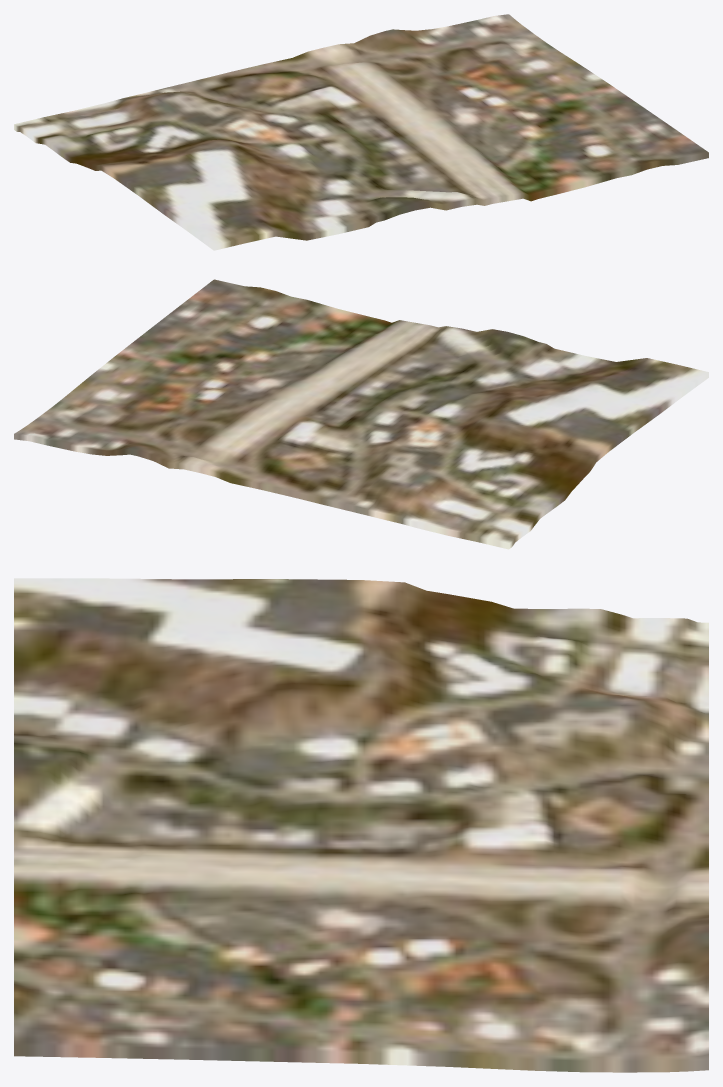
File: terrain_r3_c7_lod2.glb
3 views of the same model, one above another, from view 1: azimuth 30°, elevation 25°; view 2: azimuth 150°, elevation 25°; view 3: azimuth 270°, elevation 25° (orthographic). The views are drawn at different scales.
Visible parts, largest first — view 1: terrain_r3_c7_lod2; view 2: terrain_r3_c7_lod2; view 3: terrain_r3_c7_lod2.
Boxes of the visible parts, box(x1,y1,x2,y2) form: terrain_r3_c7_lod2: box(14, 14, 708, 250); terrain_r3_c7_lod2: box(14, 279, 708, 549); terrain_r3_c7_lod2: box(14, 578, 708, 1072).
Bounding box in the file's own units: 1125 × 93.46 × 787.
1 material, 1 textured.
